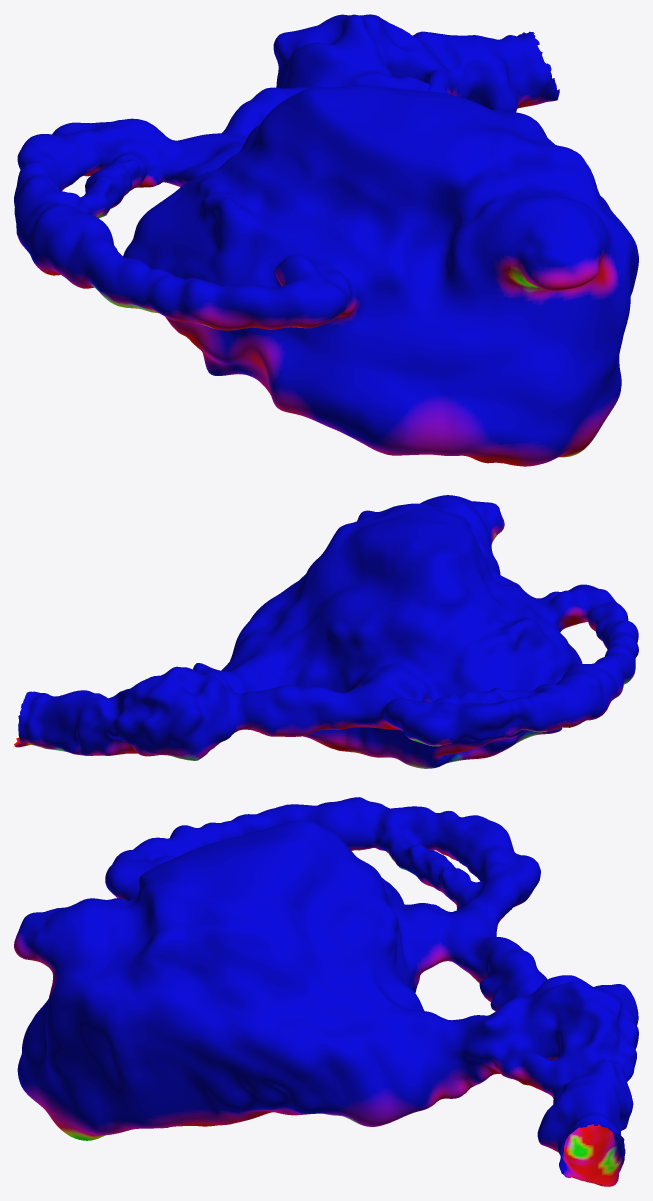
File: ShallowsArchwayOutpost_CorrectNormals.fbx
3 renders of one model, top to bottom at view 1: azimuth 30°, elevation 25°; view 2: azimuth 150°, elevation 25°; view 3: azimuth 270°, elevation 25°, orthographic. The views are drawn at different scales.
Parts seen in each view (by area): view 1: Cube.5503; view 2: Cube.5503; view 3: Cube.5503.
Part boxes in pixels (<box>): Cube.5503: <box>14,14,638,466</box>; Cube.5503: <box>14,495,638,768</box>; Cube.5503: <box>14,797,638,1186</box>.
Size of the model in its own units: 1706 by 752 by 1626.
